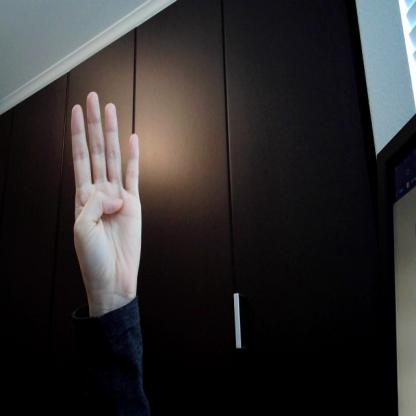four: (64, 88, 146, 298)
